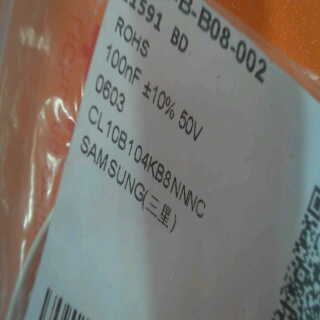100nF: (101, 39, 141, 90)
